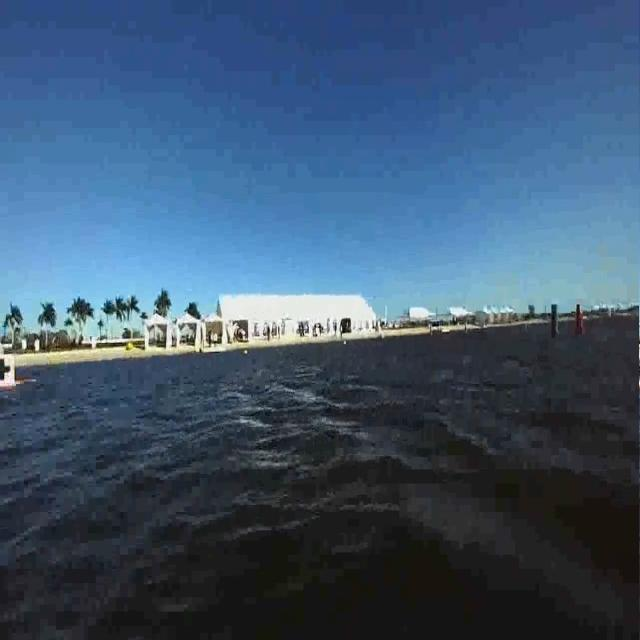green-column-buoy: (549, 304, 563, 339)
red-column-buoy: (572, 301, 585, 336)
